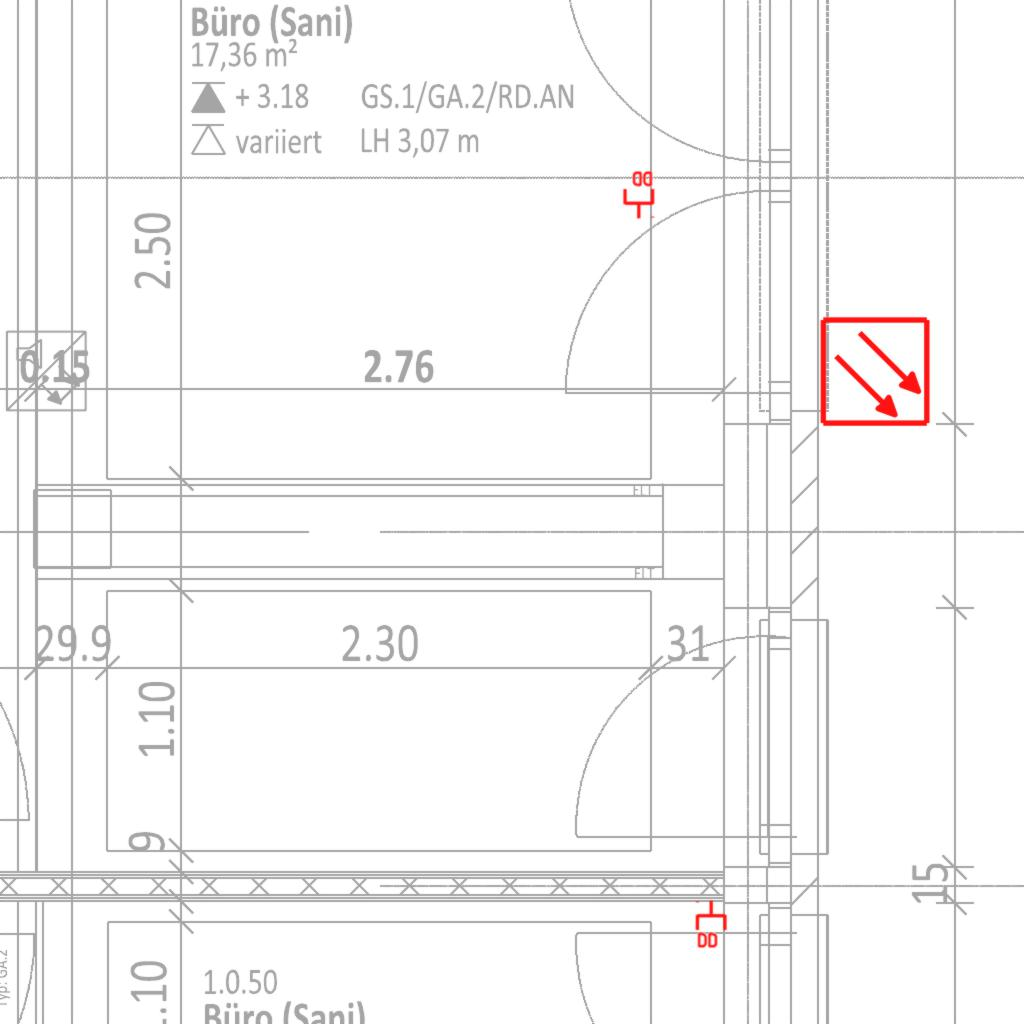Datenanschluss_zweifach: (621, 169, 655, 220), (695, 899, 729, 950)
RMO_Rauchmelder_optischer: (819, 315, 932, 428)
